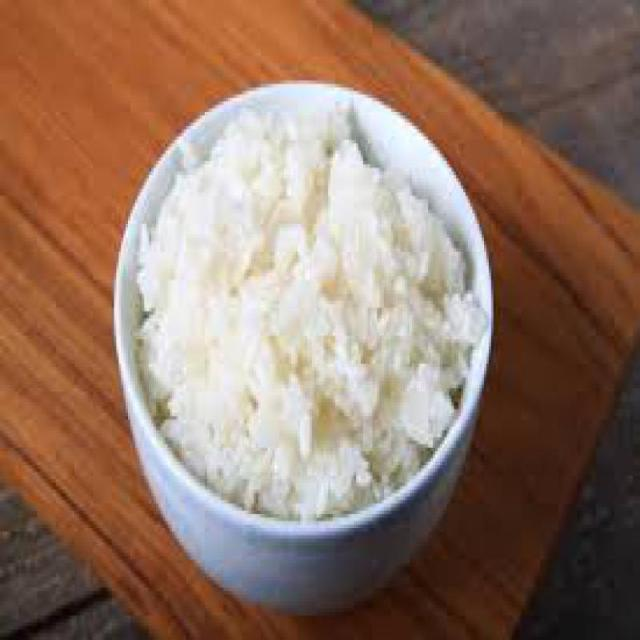nasi_putih: (140, 96, 467, 518)
